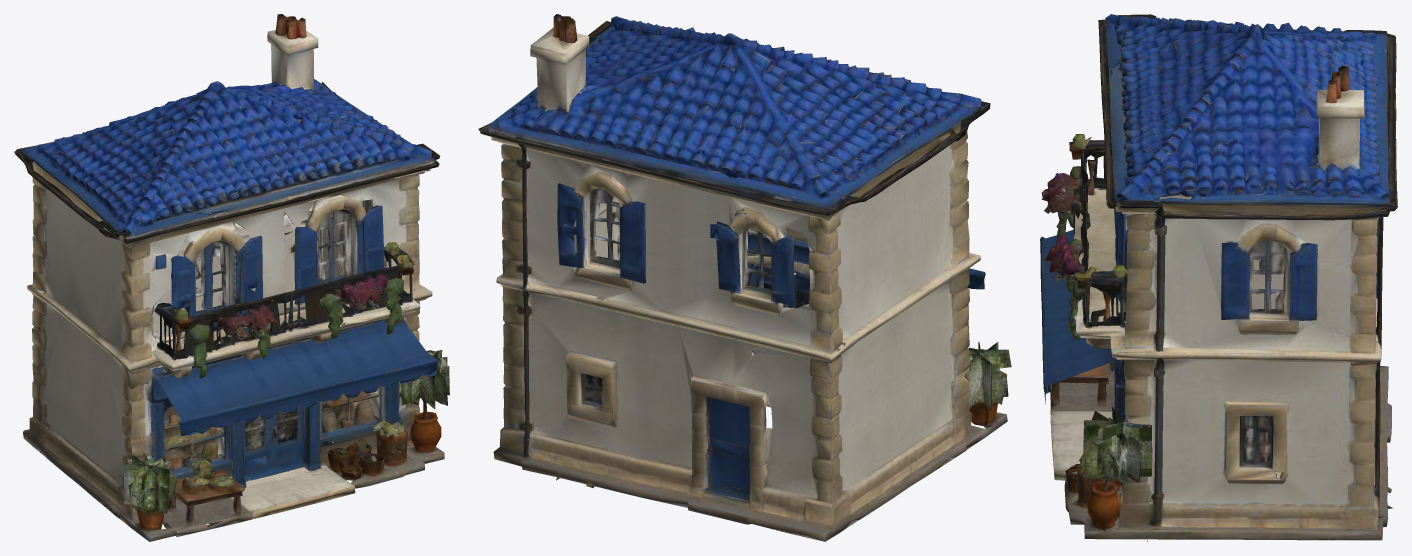
File: candidate.glb
The picture shows the model from 3 angles, left to right: view 1: azimuth 30°, elevation 25°; view 2: azimuth 150°, elevation 25°; view 3: azimuth 270°, elevation 25°; orthographic projection. The views are drawn at different scales.
Parts seen in each view (by area): view 1: harbor__shop_2__native_mobile; view 2: harbor__shop_2__native_mobile; view 3: harbor__shop_2__native_mobile.
Part boxes in pixels (bbox=[...]): harbor__shop_2__native_mobile: bbox=[14, 14, 449, 541]; harbor__shop_2__native_mobile: bbox=[478, 14, 1011, 541]; harbor__shop_2__native_mobile: bbox=[1040, 14, 1397, 541].
Bounding box in the file's own units: 0.9248 × 1 × 0.7274.
1 material, 1 textured.
